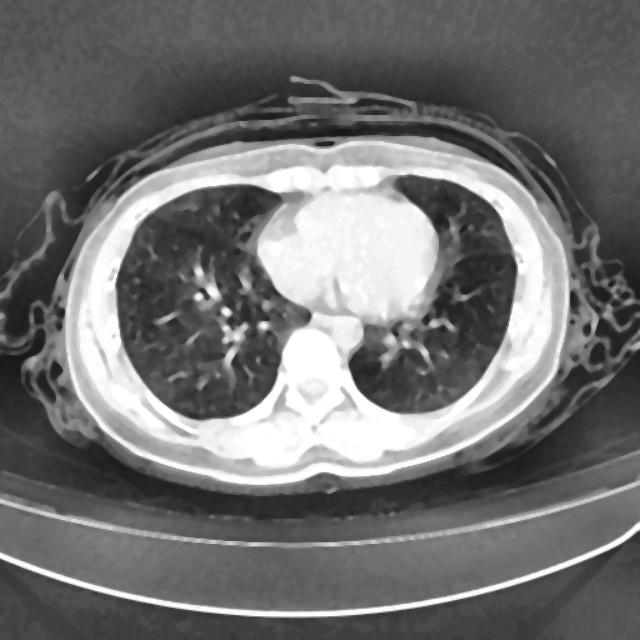covid: (1, 77, 637, 497)
